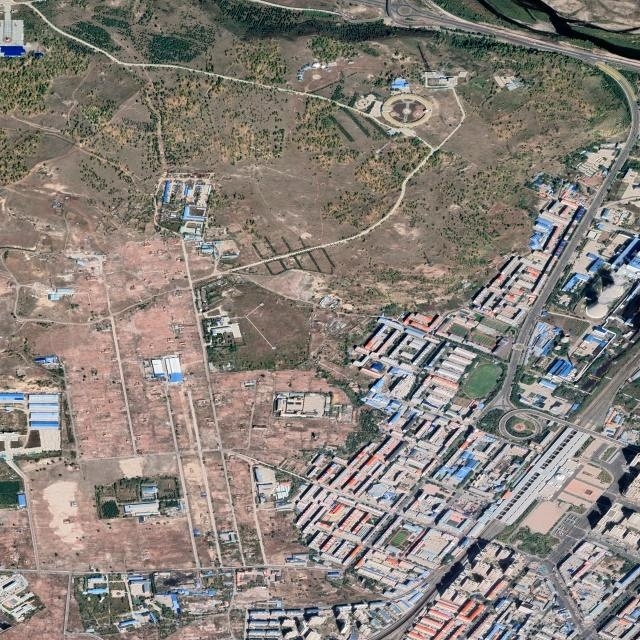coal_fired_power_plant: (526, 227, 640, 383)
